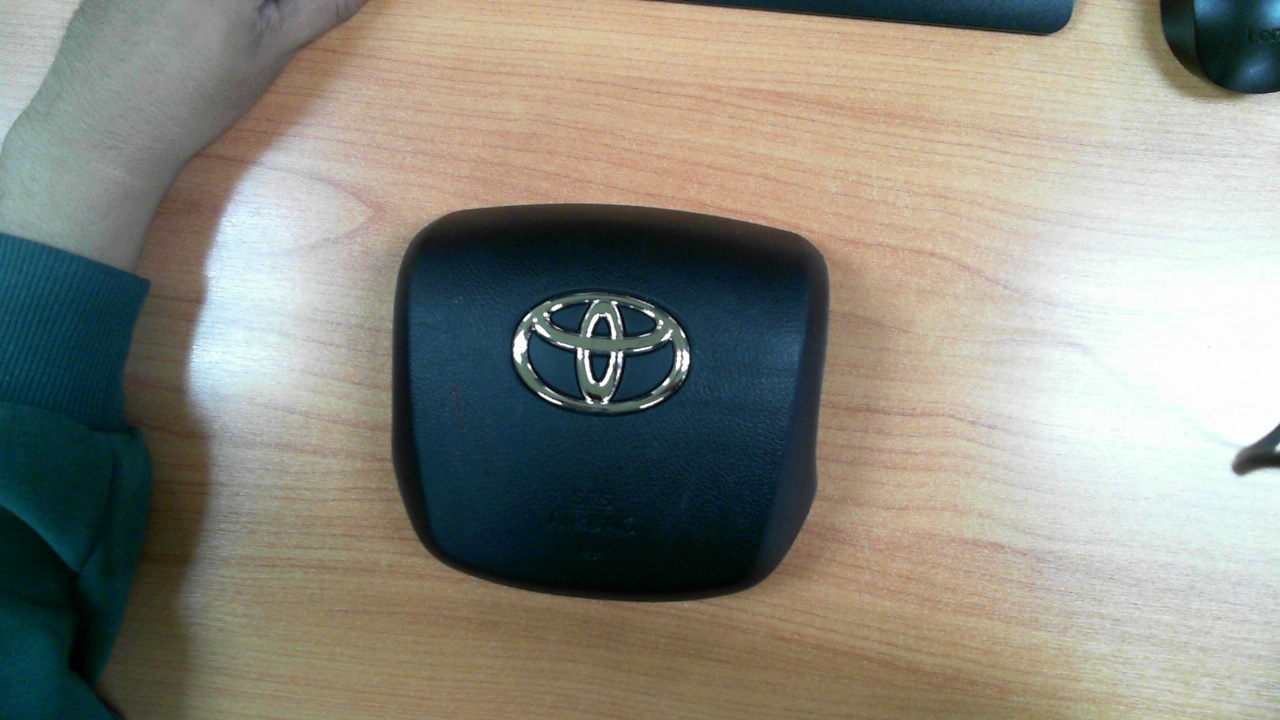Airbag: (390, 203, 831, 605)
Toyota: (511, 292, 690, 414)
